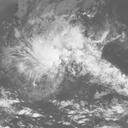cyclone: (19, 31, 69, 85)
